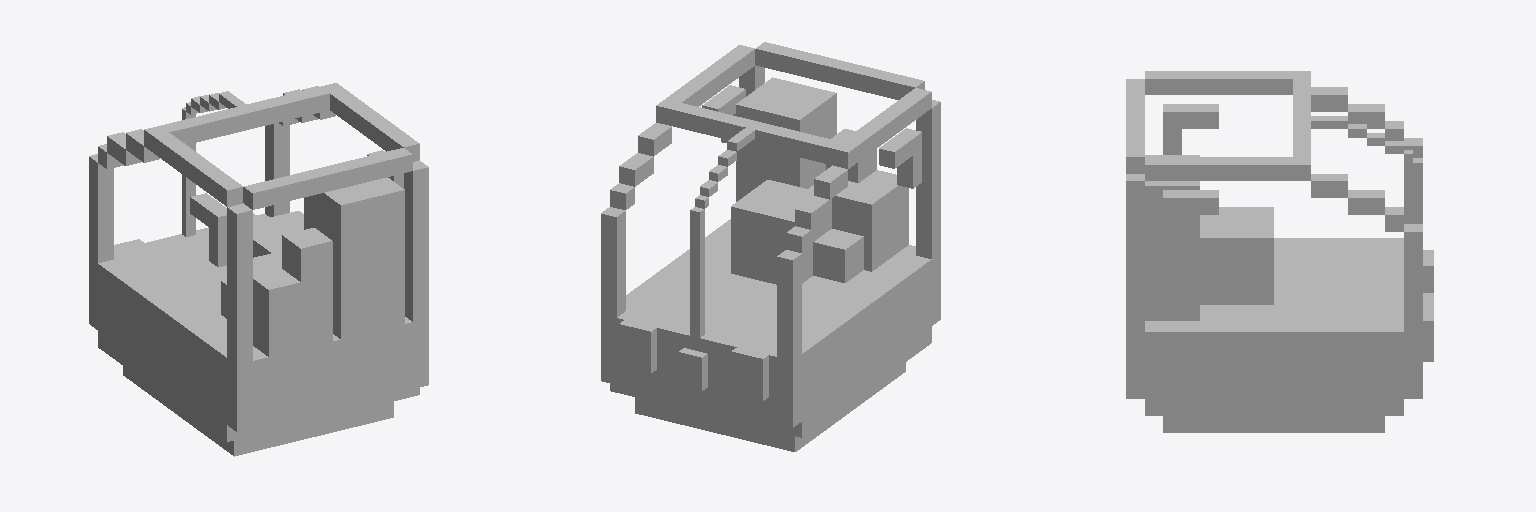
File: Truck.obj
3 views of the same model, side by side, from view 1: azimuth 30°, elevation 25°; view 2: azimuth 150°, elevation 25°; view 3: azimuth 270°, elevation 25° (orthographic).
Parts seen in each view (by area): view 1: cube; view 2: cube; view 3: cube.
Boxes of the visible parts, <box> form: cube: <box>89,83,428,456</box>; cube: <box>601,42,940,451</box>; cube: <box>1126,71,1433,432</box>.
Bounding box in the file's own units: 0.375 × 0.5156 × 0.5188.